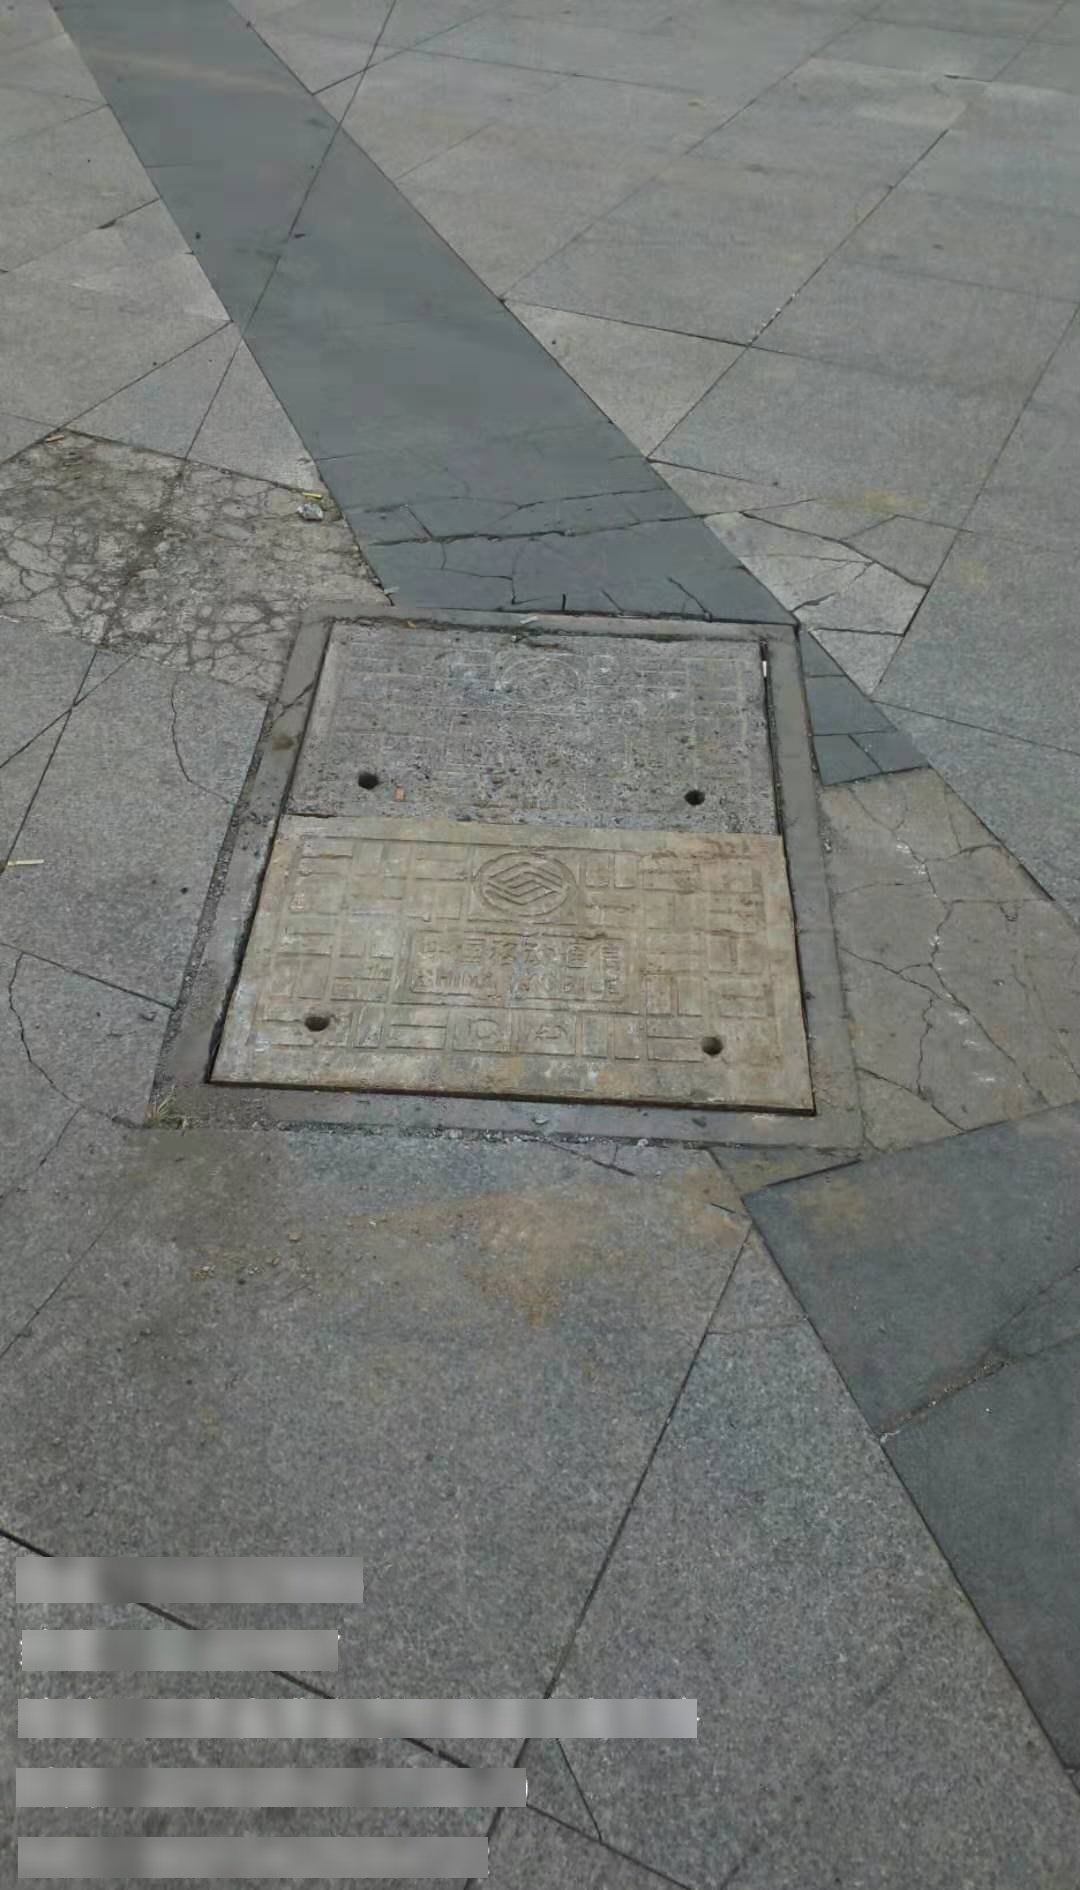good: (141, 601, 865, 1144)
